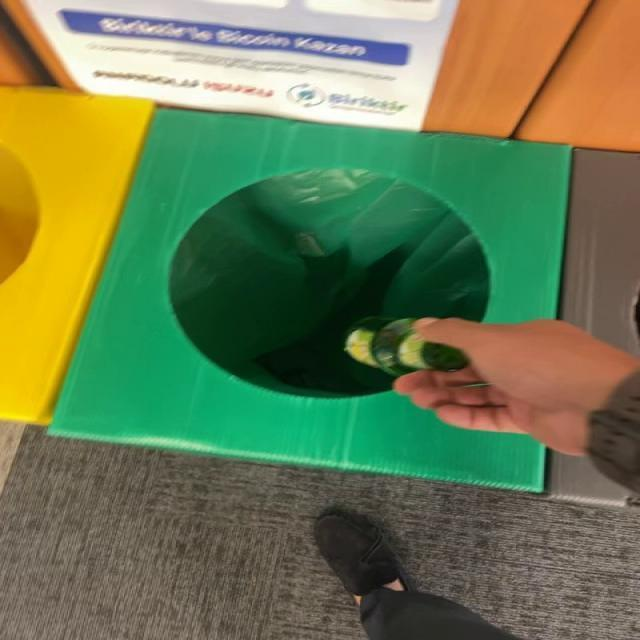Glass: (344, 317, 469, 376)
